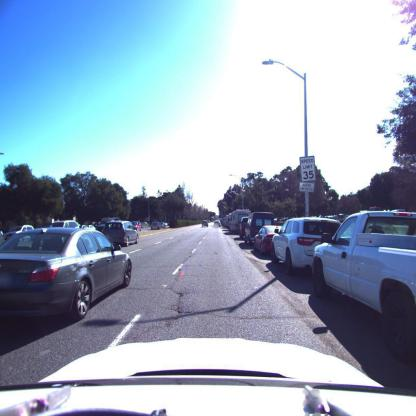car: (308, 207, 416, 395), (1, 228, 135, 336), (271, 218, 339, 277), (95, 219, 138, 249), (241, 212, 275, 244), (255, 224, 280, 254), (224, 210, 252, 235), (239, 214, 251, 238), (151, 222, 166, 230), (212, 220, 221, 228), (201, 220, 208, 228)
sign: (298, 155, 318, 193)
